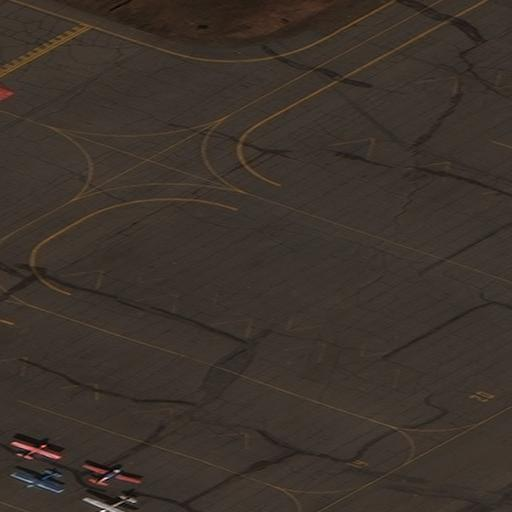Small Civil Transport: (85, 464, 140, 485), (9, 471, 58, 493), (12, 440, 62, 458), (81, 495, 131, 512)
